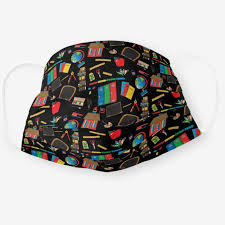cloth_mask: (1, 40, 225, 172)
